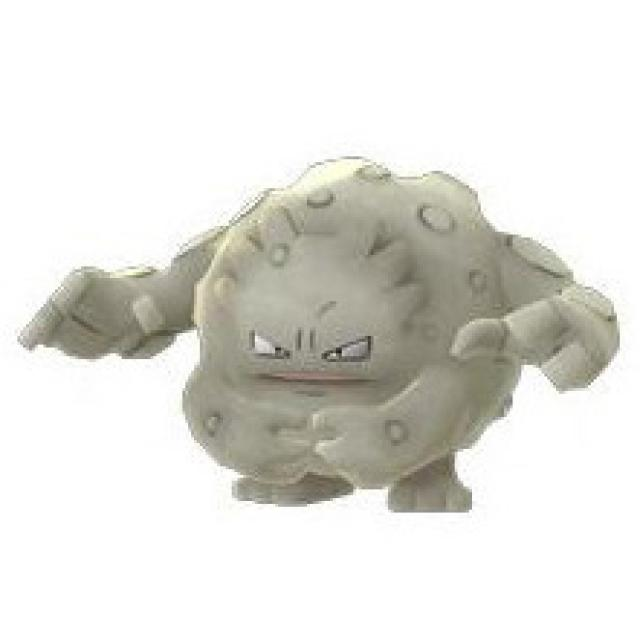Graveler: (148, 158, 569, 508)
